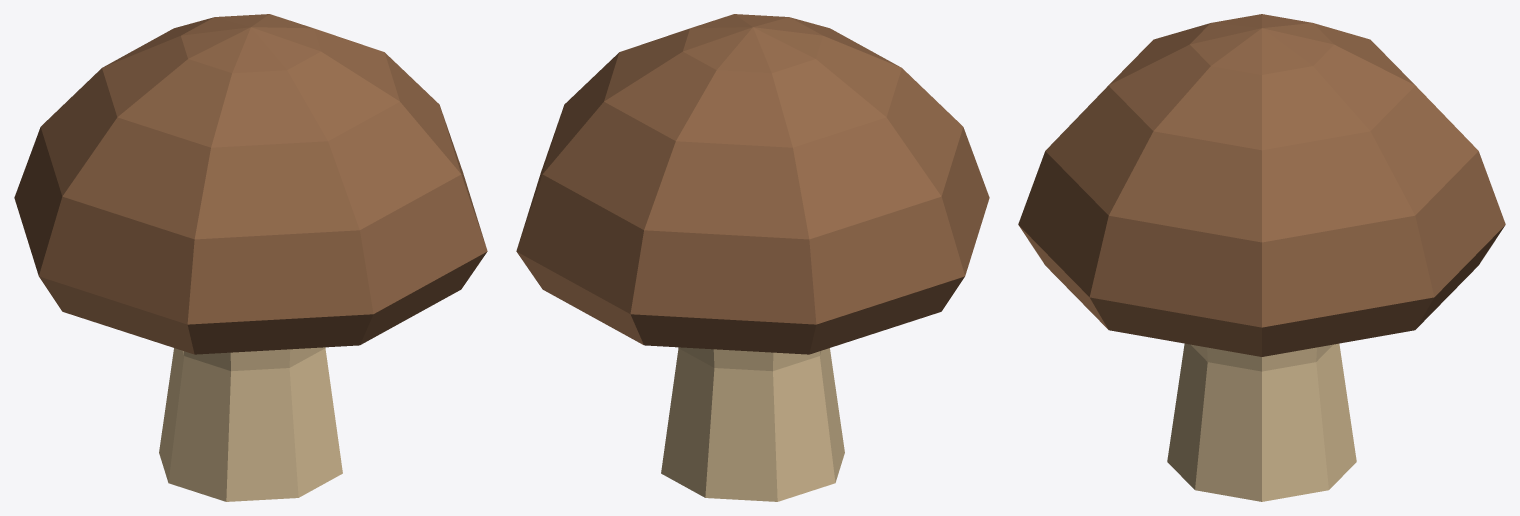
Rendered from deco_mushroom_brown.obj.
3 views of the same model, side by side, from view 1: azimuth 30°, elevation 25°; view 2: azimuth 150°, elevation 25°; view 3: azimuth 270°, elevation 25° (orthographic).
Visible parts, largest first — view 1: deco_mushroom_brown; view 2: deco_mushroom_brown; view 3: deco_mushroom_brown.
Part boxes in pixels (left/top/right/bottom): deco_mushroom_brown: left=14, top=14, right=487, bottom=501; deco_mushroom_brown: left=516, top=14, right=989, bottom=501; deco_mushroom_brown: left=1018, top=14, right=1505, bottom=501.
Size of the model in its own units: 0.054 by 0.053 by 0.054.
1 material, 1 textured.
